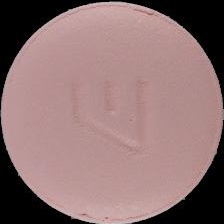54868-6306: (0, 0, 224, 224)
